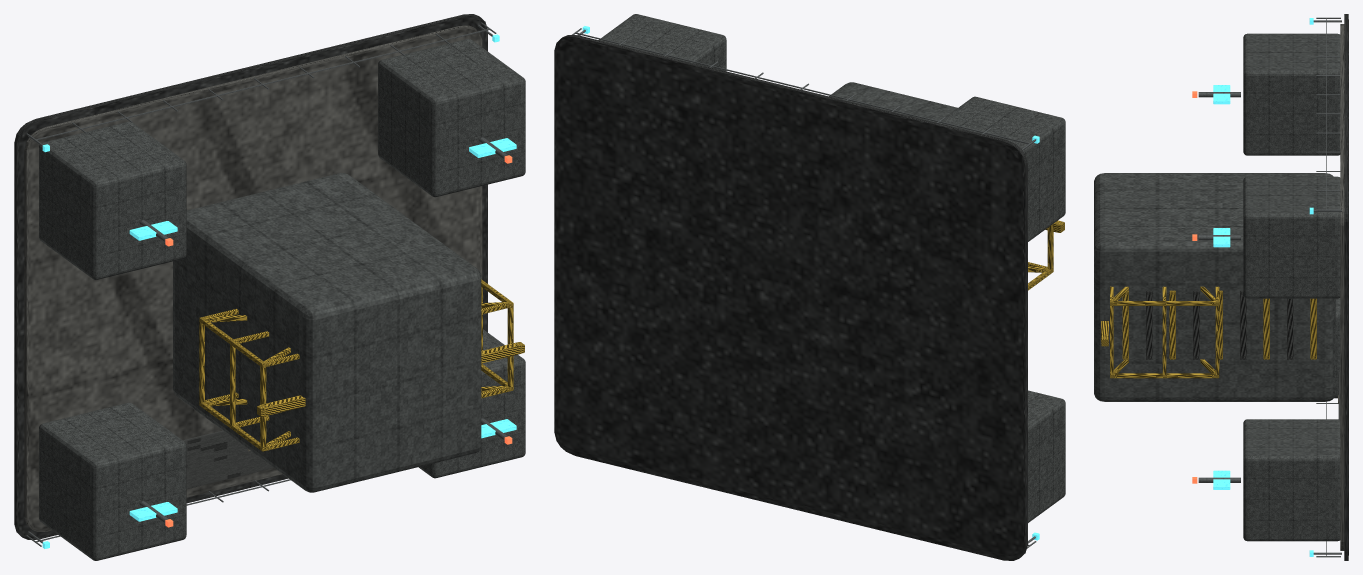
The model's file is b-45-superweapon-lab-lod0.glb.
3 views of the same model, side by side, from view 1: azimuth 30°, elevation 25°; view 2: azimuth 150°, elevation 25°; view 3: azimuth 270°, elevation 25° (orthographic). The views are drawn at different scales.
Parts seen in each view (by area): view 1: primary_armored_shaft, foundation_inner_pad, strategic_bastion_-7.2_-5.7, strategic_bastion_7.2_5.7, strategic_bastion_-7.2_5.7, foundation, strategic_bastion_7.2_-5.7, strategic_portal_road, upper_crane_bridge; view 2: foundation, strategic_bastion_-7.2_5.7, strategic_bastion_-7.2_-5.7, strategic_bastion_7.2_5.7, primary_armored_shaft; view 3: primary_armored_shaft, strategic_bastion_7.2_-5.7, strategic_bastion_7.2_5.7, strategic_bastion_-7.2_5.7, foundation, foundation_inner_pad, upper_crane_column_e_s, upper_crane_column_e_n, shaft_warning_strip_4.5, strategic_bastion_-7.2_-5.7, shaft_warning_strip_6.5, shaft_warning_strip_7.5 (+10 smaller).
Boxes of the visible parts, x1=… form: primary_armored_shaft: x1=173, y1=173, x2=481, y2=492; foundation_inner_pad: x1=24, y1=25, x2=482, y2=531; strategic_bastion_-7.2_-5.7: x1=39, y1=402, x2=186, y2=560; strategic_bastion_7.2_5.7: x1=378, y1=39, x2=525, y2=197; strategic_bastion_-7.2_5.7: x1=39, y1=121, x2=186, y2=279; foundation: x1=14, y1=14, x2=487, y2=539; strategic_bastion_7.2_-5.7: x1=418, y1=329, x2=525, y2=478; strategic_portal_road: x1=183, y1=430, x2=273, y2=488; upper_crane_bridge: x1=257, y1=342, x2=524, y2=416; foundation: x1=554, y1=35, x2=1027, y2=560; strategic_bastion_-7.2_5.7: x1=938, y1=96, x2=1065, y2=241; strategic_bastion_-7.2_-5.7: x1=1028, y1=390, x2=1065, y2=522; strategic_bastion_7.2_5.7: x1=598, y1=14, x2=726, y2=71; primary_armored_shaft: x1=829, y1=82, x2=957, y2=122; primary_armored_shaft: x1=1094, y1=173, x2=1335, y2=401; strategic_bastion_7.2_-5.7: x1=1243, y1=419, x2=1340, y2=541; strategic_bastion_7.2_5.7: x1=1243, y1=176, x2=1340, y2=298; strategic_bastion_-7.2_5.7: x1=1243, y1=33, x2=1340, y2=155; foundation: x1=1344, y1=14, x2=1348, y2=560; foundation_inner_pad: x1=1340, y1=24, x2=1344, y2=550; upper_crane_column_e_s: x1=1113, y1=373, x2=1215, y2=378; upper_crane_column_e_n: x1=1113, y1=301, x2=1215, y2=305; shaft_warning_strip_4.5: x1=1240, y1=290, x2=1246, y2=359; strategic_bastion_-7.2_-5.7: x1=1334, y1=298, x2=1340, y2=398; shaft_warning_strip_6.5: x1=1193, y1=290, x2=1199, y2=359; shaft_warning_strip_7.5: x1=1169, y1=290, x2=1175, y2=359.
Size of what is drawn, in the model's own units: 20 by 17 by 10.85.
11 materials, 11 textured.
